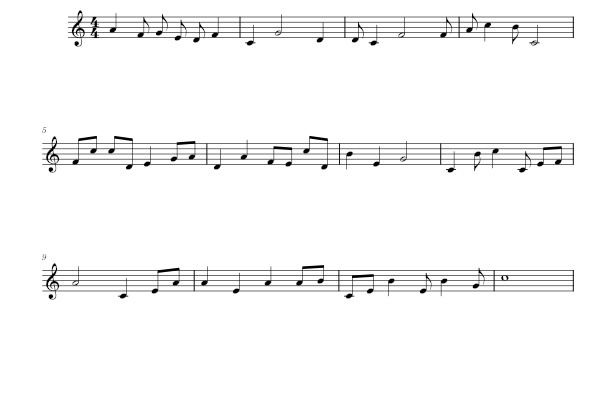Treble Clef: (67, 6, 88, 51), (42, 135, 63, 176), (42, 262, 63, 303)
